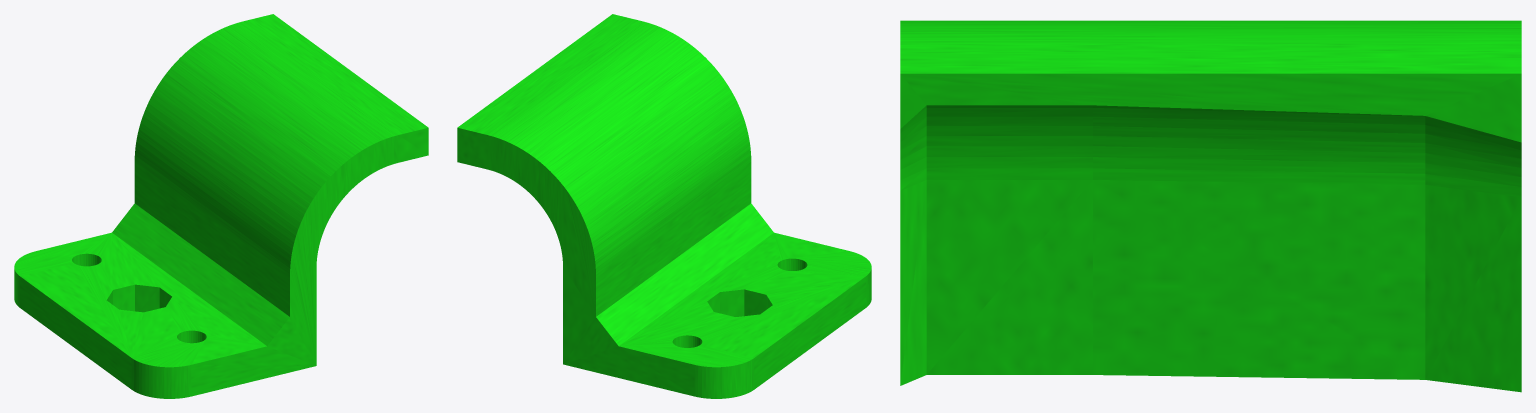
File: xtion_bracket_left.dae
The picture shows the model from 3 angles, left to right: view 1: azimuth 30°, elevation 25°; view 2: azimuth 150°, elevation 25°; view 3: azimuth 270°, elevation 25°; orthographic projection. The views are drawn at different scales.
Visible parts, largest first — view 1: node; view 2: node; view 3: node.
Boxes of the visible parts, x1=… form: node: x1=14, y1=14, x2=428, y2=398; node: x1=457, y1=14, x2=871, y2=398; node: x1=900, y1=20, x2=1521, y2=392.
Bounding box in the file's own units: 36.3 × 26.6 × 35.5.
Materials: 1 (1 with a texture image).
